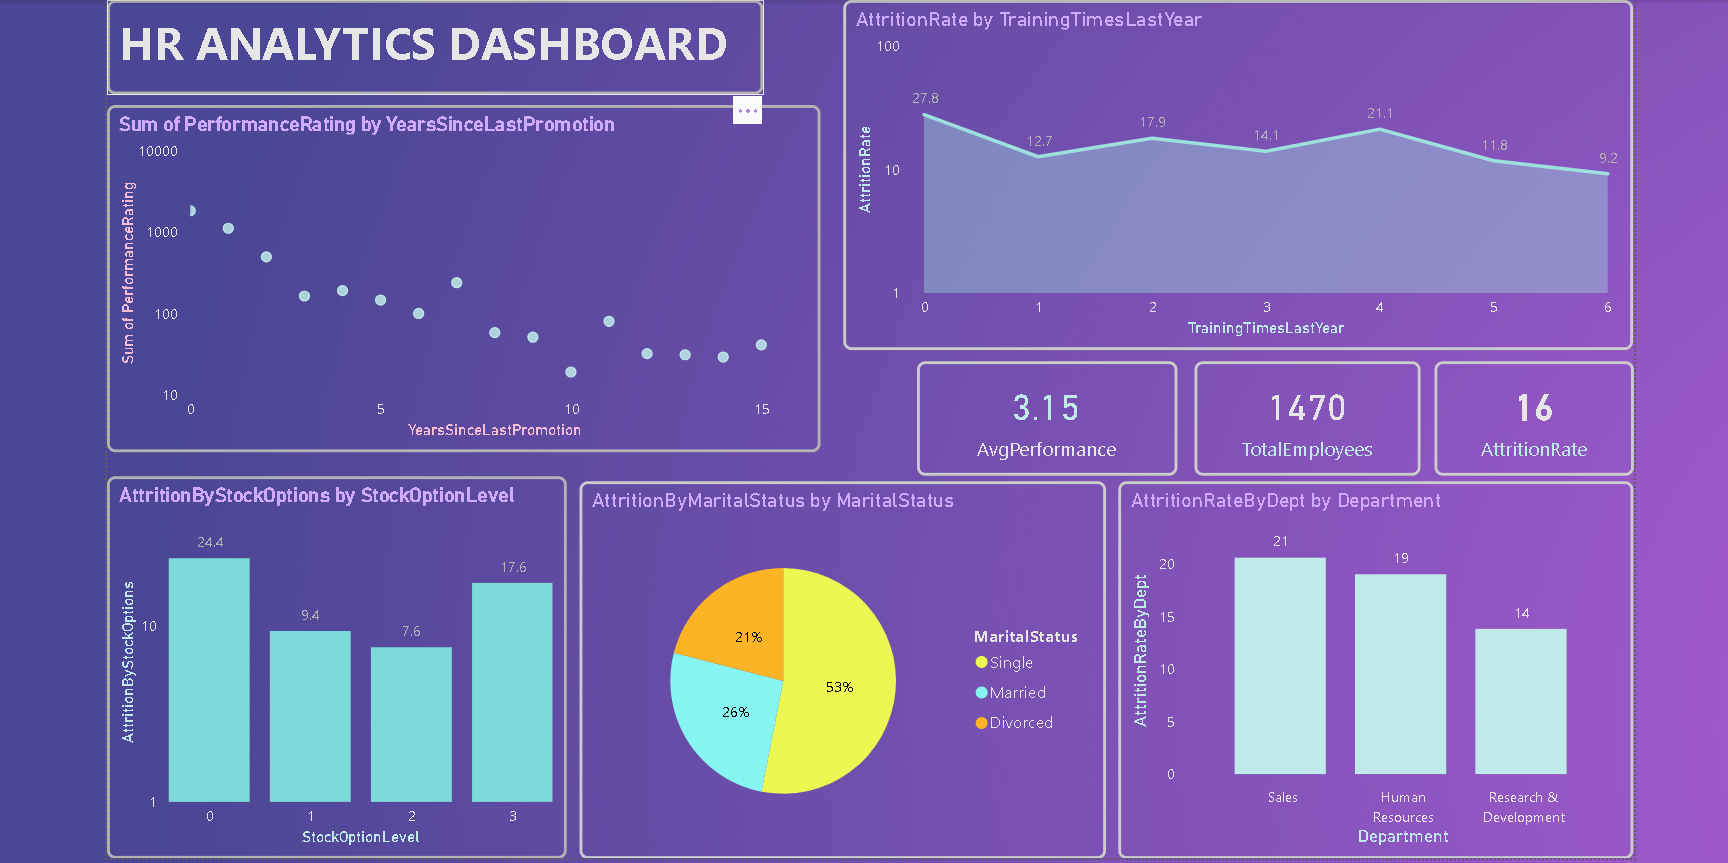

The page's visual inventory and layout, read from the dashboard file:
{"tool":"powerbi","page":{"name":"Page 1","canvas":[1280,720],"ordinal":0},"visuals":[{"type":"card","fields":{"Values":["EmployeeData.AttritionRate"]},"box":[1112.9,303.3,167.4,96.1],"z":0},{"type":"clusteredColumnChart","fields":{"Category":["EmployeeData.Department"],"Y":["EmployeeData.AttritionRateByDept"]},"box":[848,403.4,432.2,317],"z":1},{"type":"pieChart","fields":{"Category":["EmployeeData.MaritalStatus"],"Y":["EmployeeData.AttritionByMaritalStatus"]},"box":[396.6,403.4,441.9,317],"z":2},{"type":"clusteredColumnChart","fields":{"Y":["EmployeeData.AttritionByStockOptions"],"Category":["EmployeeData.StockOptionLevel"]},"box":[0,399.3,385.6,321.1],"z":3},{"type":"scatterChart","fields":{"X":["EmployeeData.YearsSinceLastPromotion"],"Y":["Sum(EmployeeData.PerformanceRating)"]},"box":[0,87.8,598.3,290.9],"z":4},{"type":"lineChart","fields":{"Y":["EmployeeData.AttritionRate"],"Category":["EmployeeData.TrainingTimesLastYear"]},"box":[617.5,0,662.8,293.7],"z":5},{"type":"textbox","box":[0,0,550.3,79.6],"z":6},{"type":"card","fields":{"Values":["EmployeeData.TotalEmployees"]},"box":[912.5,303.3,189.4,96.1],"z":7},{"type":"card","fields":{"Values":["EmployeeData.AvgPerformanceByPromotion"]},"box":[679.2,303.3,218.2,96.1],"z":8}]}

Visuals, with their boxes in screenshot pixels (x1, y1, x2, y2):
card - EmployeeData.AttritionRate: Rect(1425, 359, 1623, 473)
clusteredColumnChart - EmployeeData.Department x EmployeeData.AttritionRateByDept: Rect(1112, 477, 1623, 853)
pieChart - EmployeeData.MaritalStatus x EmployeeData.AttritionByMaritalStatus: Rect(577, 477, 1100, 853)
clusteredColumnChart - EmployeeData.AttritionByStockOptions x EmployeeData.StockOptionLevel: Rect(108, 473, 564, 853)
scatterChart - EmployeeData.YearsSinceLastPromotion x Sum(EmployeeData.PerformanceRating): Rect(108, 104, 816, 448)
lineChart - EmployeeData.AttritionRate x EmployeeData.TrainingTimesLastYear: Rect(839, 0, 1623, 348)
textbox: Rect(108, 0, 759, 94)
card - EmployeeData.TotalEmployees: Rect(1188, 359, 1412, 473)
card - EmployeeData.AvgPerformanceByPromotion: Rect(912, 359, 1170, 473)
